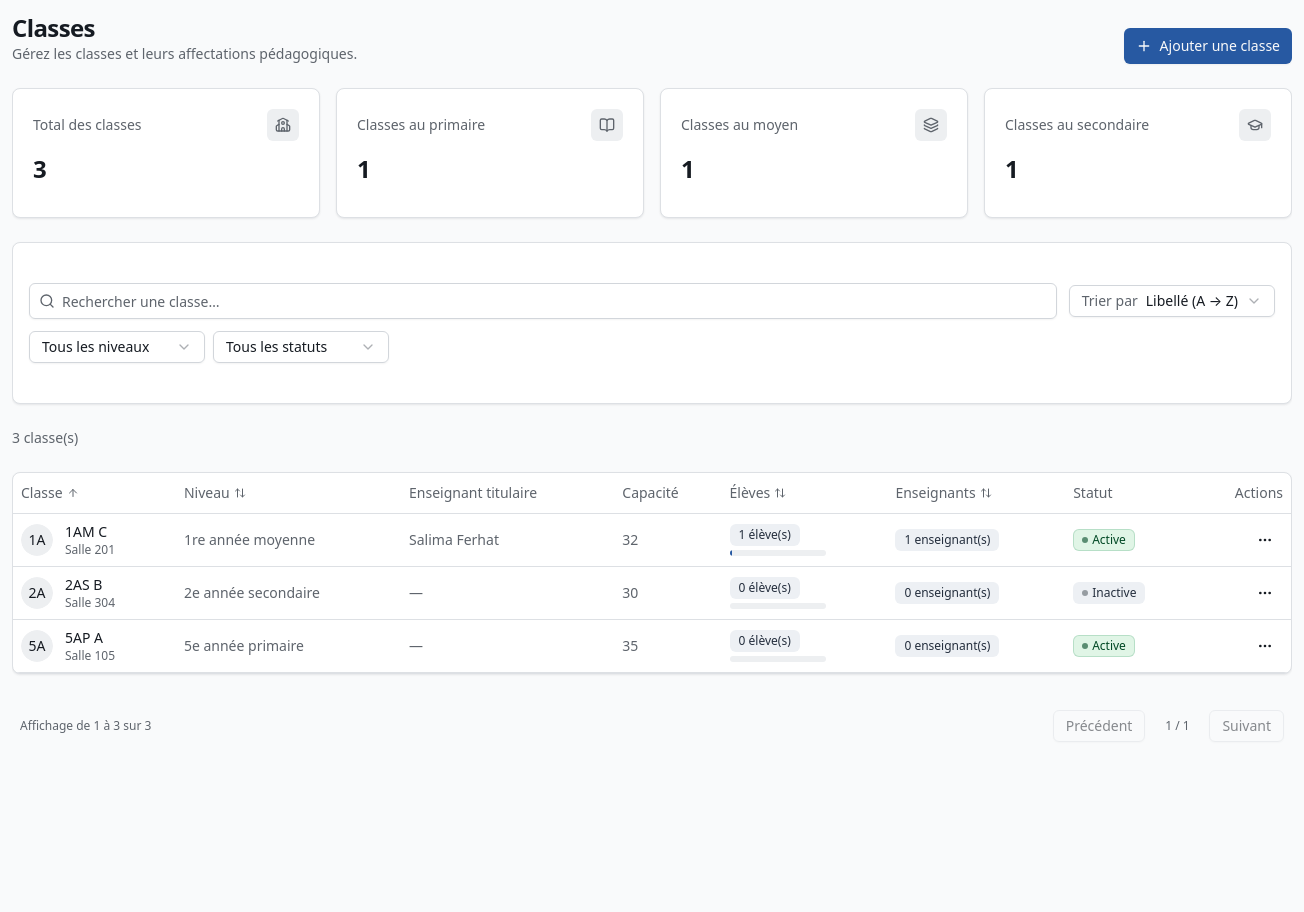
Test case: ClassesPage › filters by level via the select
Expected: the link "1AM C" is shown, [65,522,107,540]
Click the dropdown labelled "Tous les niveaux": x=117, y=347 [29,331,205,363]
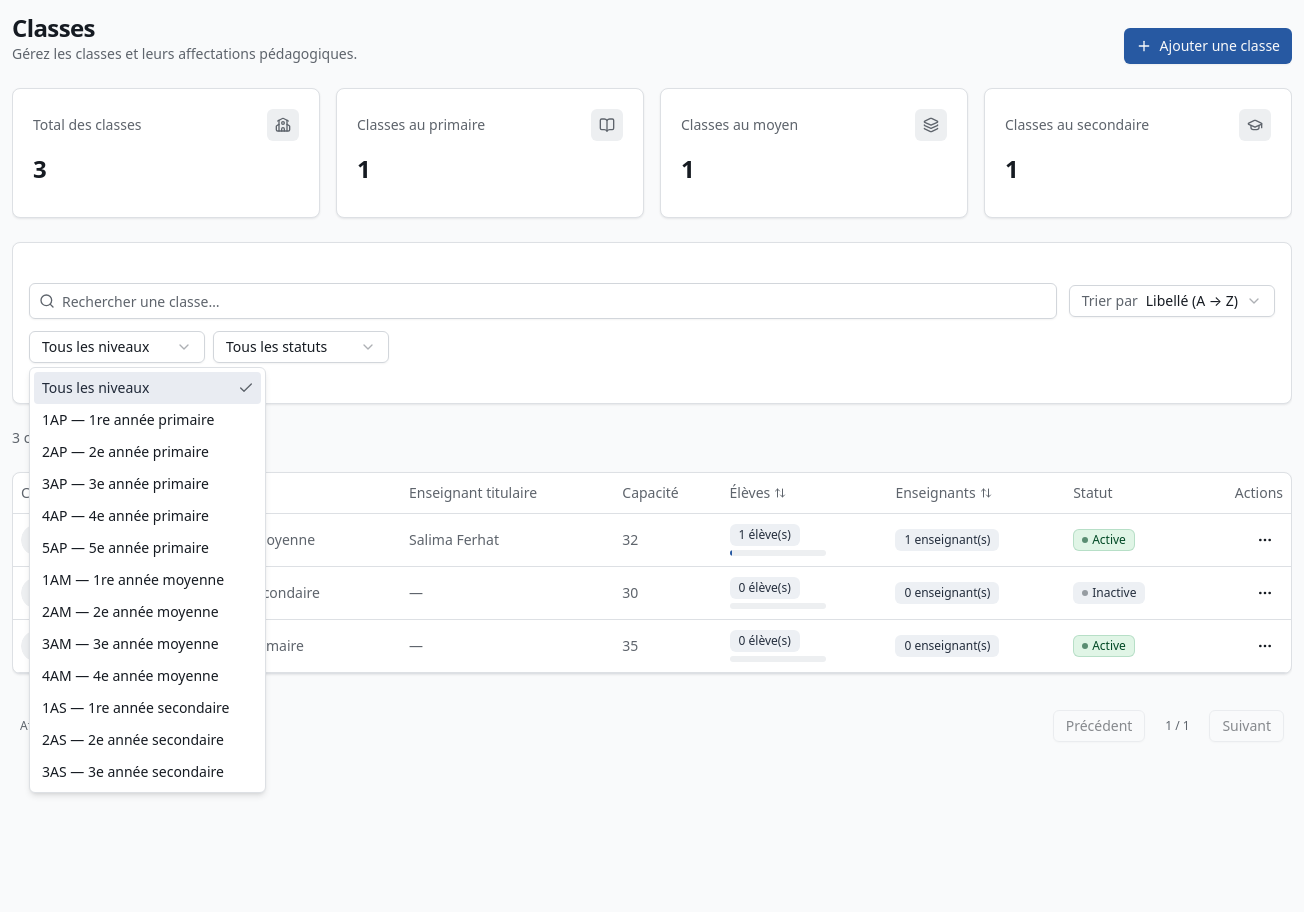
Click the option "1AM — 1re année moyenne": x=133, y=580 [42,570,224,589]
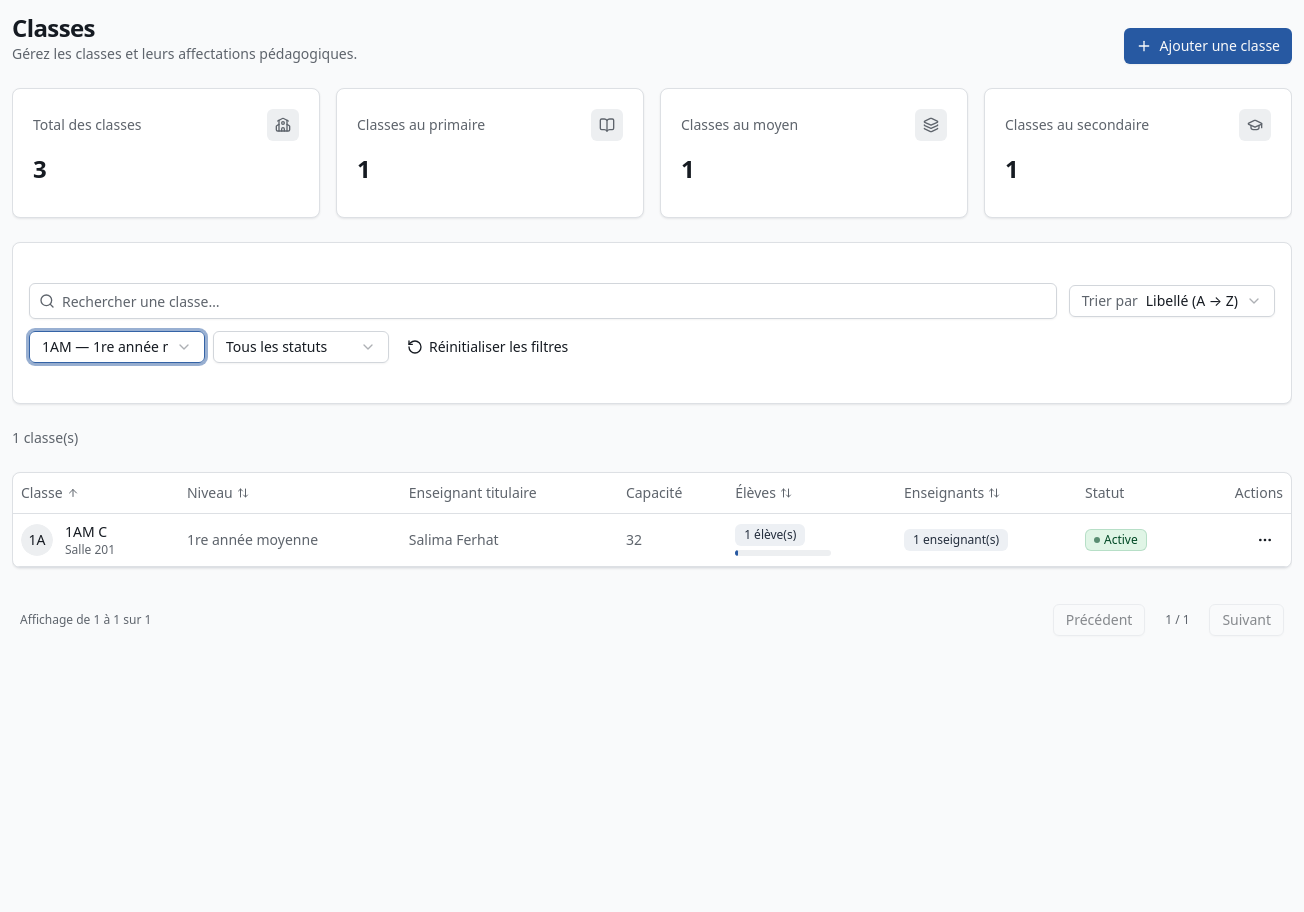
Expected: the link "1AM C" is shown, [65,522,107,540]
Expected: the link "2AS B" is gone
Expected: the link "5AP A" is gone
